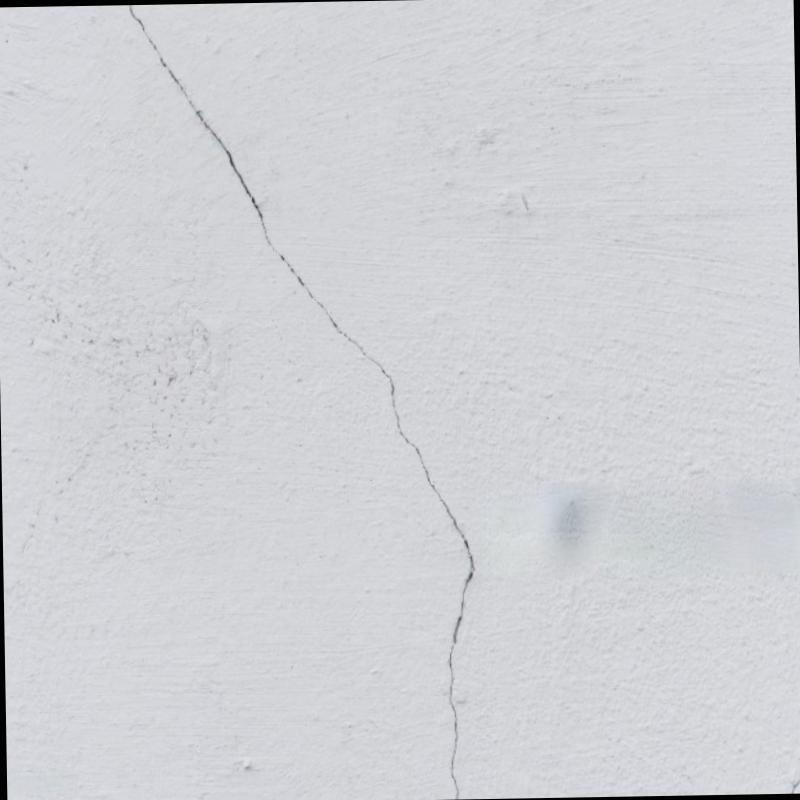pothole: (120, 5, 476, 797)
